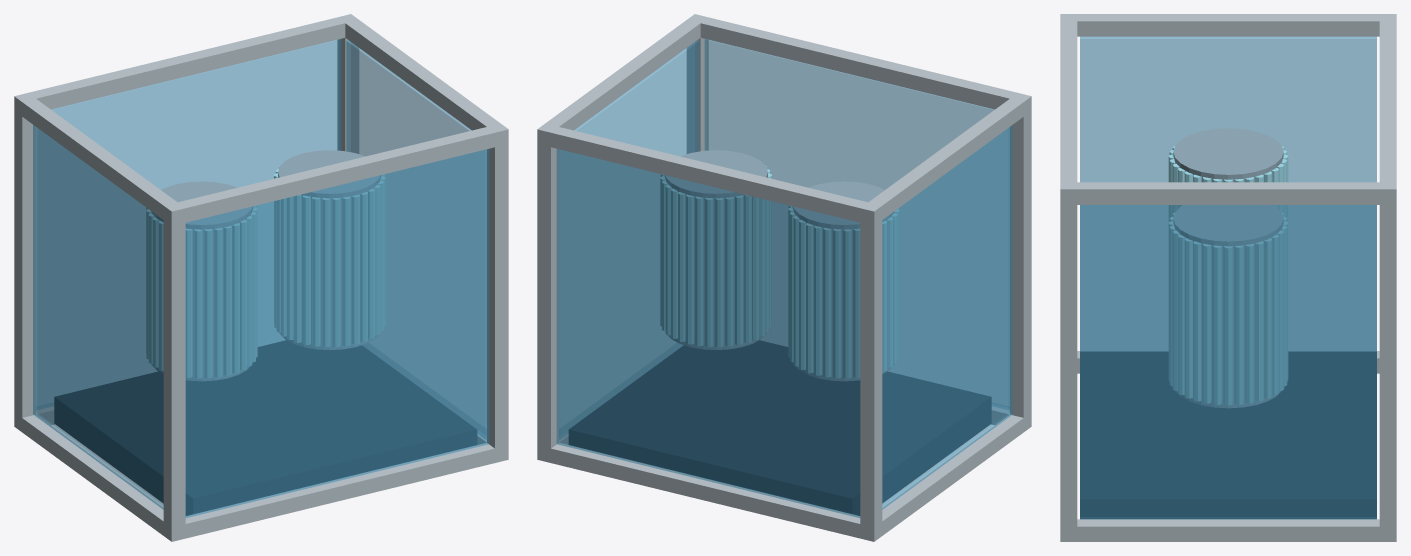
Rendered from 46_L77_PostCMPBrushCleaningChamber.fbx.
The picture shows the model from 3 angles, left to right: view 1: azimuth 30°, elevation 25°; view 2: azimuth 150°, elevation 25°; view 3: azimuth 270°, elevation 25°; orthographic projection. The views are drawn at different scales.
Parts seen in each view (by area): view 1: PostCMPBrushCleaningChamber, PostCMPBrushCleaningChamber_Part_0049, PostCMPBrushCleaningChamber_Part_0016, PostCMPBrushCleaningChamber_Part_0028, PostCMPBrushCleaningChamber_Part_0027, PostCMPBrushCleaningChamber_Part_0062, PostCMPBrushCleaningChamber_Part_0026, PostCMPBrushCleaningChamber_Part_0060, PostCMPBrushCleaningChamber_Part_0061, PostCMPBrushCleaningChamber_Part_0059, PostCMPBrushCleaningChamber_Part_0024, PostCMPBrushCleaningChamber_Part_0025 (+17 smaller); view 2: PostCMPBrushCleaningChamber, PostCMPBrushCleaningChamber_Part_0049, PostCMPBrushCleaningChamber_Part_0016, PostCMPBrushCleaningChamber_Part_0038, PostCMPBrushCleaningChamber_Part_0039, PostCMPBrushCleaningChamber_Part_0070, PostCMPBrushCleaningChamber_Part_0040, PostCMPBrushCleaningChamber_Part_0071, PostCMPBrushCleaningChamber_Part_0072, PostCMPBrushCleaningChamber_Part_0073, PostCMPBrushCleaningChamber_Part_0041, PostCMPBrushCleaningChamber_Part_0042 (+17 smaller); view 3: PostCMPBrushCleaningChamber, PostCMPBrushCleaningChamber_Part_0049, PostCMPBrushCleaningChamber_Part_0016, PostCMPBrushCleaningChamber_Part_0053, PostCMPBrushCleaningChamber_Part_0079, PostCMPBrushCleaningChamber_Part_0050, PostCMPBrushCleaningChamber_Part_0051, PostCMPBrushCleaningChamber_Part_0052, PostCMPBrushCleaningChamber_Part_0080, PostCMPBrushCleaningChamber_Part_0081, PostCMPBrushCleaningChamber_Part_0054, PostCMPBrushCleaningChamber_Part_0078 (+6 smaller).
Boxes of the visible parts, x1,y1,x2,y2 form: PostCMPBrushCleaningChamber: [14, 14, 508, 541]; PostCMPBrushCleaningChamber_Part_0049: [278, 150, 380, 349]; PostCMPBrushCleaningChamber_Part_0016: [151, 181, 252, 380]; PostCMPBrushCleaningChamber_Part_0028: [194, 229, 202, 378]; PostCMPBrushCleaningChamber_Part_0027: [204, 229, 212, 378]; PostCMPBrushCleaningChamber_Part_0062: [312, 197, 320, 346]; PostCMPBrushCleaningChamber_Part_0026: [214, 228, 222, 377]; PostCMPBrushCleaningChamber_Part_0060: [332, 198, 340, 346]; PostCMPBrushCleaningChamber_Part_0061: [322, 198, 330, 346]; PostCMPBrushCleaningChamber_Part_0059: [342, 196, 350, 345]; PostCMPBrushCleaningChamber_Part_0024: [232, 223, 239, 372]; PostCMPBrushCleaningChamber_Part_0025: [224, 226, 231, 375]; PostCMPBrushCleaningChamber: [537, 14, 1031, 541]; PostCMPBrushCleaningChamber_Part_0049: [665, 150, 767, 349]; PostCMPBrushCleaningChamber_Part_0016: [793, 181, 894, 380]; PostCMPBrushCleaningChamber_Part_0038: [843, 229, 851, 378]; PostCMPBrushCleaningChamber_Part_0039: [833, 229, 841, 378]; PostCMPBrushCleaningChamber_Part_0070: [725, 197, 733, 346]; PostCMPBrushCleaningChamber_Part_0040: [823, 228, 831, 377]; PostCMPBrushCleaningChamber_Part_0071: [715, 198, 723, 346]; PostCMPBrushCleaningChamber_Part_0072: [705, 198, 713, 346]; PostCMPBrushCleaningChamber_Part_0073: [695, 196, 703, 345]; PostCMPBrushCleaningChamber_Part_0041: [814, 226, 821, 375]; PostCMPBrushCleaningChamber_Part_0042: [806, 223, 813, 372]; PostCMPBrushCleaningChamber: [1060, 14, 1396, 541]; PostCMPBrushCleaningChamber_Part_0049: [1173, 205, 1283, 407]; PostCMPBrushCleaningChamber_Part_0016: [1173, 128, 1283, 182]; PostCMPBrushCleaningChamber_Part_0053: [1193, 241, 1201, 401]; PostCMPBrushCleaningChamber_Part_0079: [1255, 241, 1263, 401]; PostCMPBrushCleaningChamber_Part_0050: [1224, 246, 1232, 405]; PostCMPBrushCleaningChamber_Part_0051: [1213, 245, 1221, 404]; PostCMPBrushCleaningChamber_Part_0052: [1203, 244, 1211, 403]; PostCMPBrushCleaningChamber_Part_0080: [1245, 244, 1253, 403]; PostCMPBrushCleaningChamber_Part_0081: [1235, 245, 1243, 404]; PostCMPBrushCleaningChamber_Part_0054: [1185, 238, 1192, 398]; PostCMPBrushCleaningChamber_Part_0078: [1264, 238, 1271, 398].
Bounding box in the file's own units: 158 × 148 × 128.
